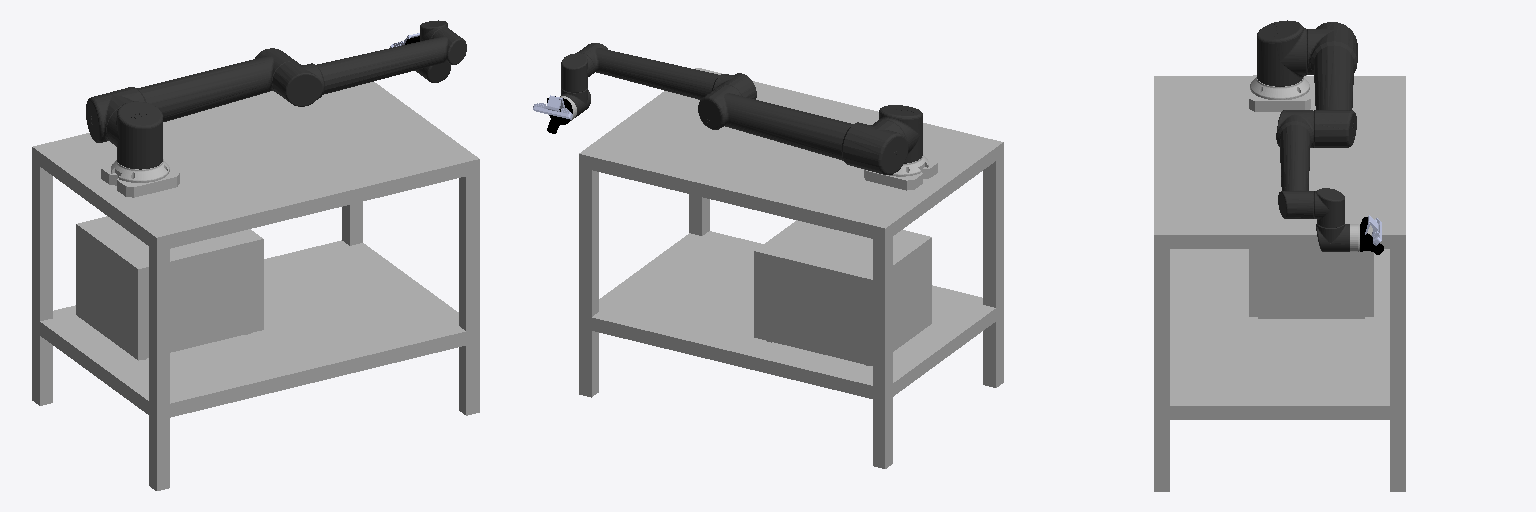
The robot description file, URDF, robot "ur10_description_v3":
<?xml version="1.0" encoding="utf-8" ?>
<!-- This URDF was automatically created by SolidWorks to URDF Exporter! Originally created by [author] ([email redacted]) 
     Commit Version: 1.6.0-4-g7f85cfe  Build Version: 1.6.7995.38578
     For more information, please see http://wiki.ros.org/sw_urdf_exporter -->
<robot name="ur10_description_v3">
    <link name="table_link">
        <inertial>
            <origin xyz="0.503679778923471 0.436750246454337 0.533162239913515" rpy="0 0 0" />
            <mass value="164.427518164029" />
            <inertia ixx="17.5438109681455" ixy="1.00173029919582" ixz="-0.84554880731535" iyy="27.9962527469498" iyz="0.32261270489944" izz="25.3196927520228" />
        </inertial>
        <visual>
            <origin xyz="0 0 0" rpy="0 0 0" />
            <geometry>
                <mesh filename="package://ur10_description_v3/meshes/table_link.STL" />
            </geometry>
            <material name="">
                <color rgba="0.752941176470588 0.752941176470588 0.752941176470588 1" />
            </material>
        </visual>
        <collision>
            <origin xyz="0 0 0" rpy="0 0 0" />
            <geometry>
                <mesh filename="package://ur10_description_v3/meshes/table_link.STL" />
            </geometry>
        </collision>
    </link>
    <link name="adapter_link">
        <inertial>
            <origin xyz="0.00148762870939384 -5.55111512312578E-17 0.0184969952138566" rpy="0 0 0" />
            <mass value="1.3940393775037" />
            <inertia ixx="0.00480218257555222" ixy="-3.32761202584861E-19" ixz="-6.23136456619299E-09" iyy="0.00460995913579551" iyz="-9.9318015210222E-20" izz="0.00909416459764461" />
        </inertial>
        <visual>
            <origin xyz="0 0 0" rpy="0 0 0" />
            <geometry>
                <mesh filename="package://ur10_description_v3/meshes/adapter_link.STL" />
            </geometry>
            <material name="">
                <color rgba="0.752941176470588 0.752941176470588 0.752941176470588 1" />
            </material>
        </visual>
        <collision>
            <origin xyz="0 0 0" rpy="0 0 0" />
            <geometry>
                <mesh filename="package://ur10_description_v3/meshes/adapter_link.STL" />
            </geometry>
        </collision>
    </link>
    <joint name="adapter_joint" type="fixed">
        <origin xyz="0.17 0.4 0.9" rpy="0 0 0" />
        <parent link="table_link" />
        <child link="adapter_link" />
        <axis xyz="0 0 0" />
    </joint>
    <link name="base_link">
        <inertial>
            <origin xyz="0.0011845 -2.7253E-08 0.017325" rpy="0 0 0" />
            <mass value="0.86268" />
            <inertia ixx="0.0017501" ixy="8.3495E-09" ixz="9.0593E-06" iyy="0.0016637" iyz="-4.5806E-10" izz="0.0032119" />
        </inertial>
        <visual>
            <origin xyz="0 0 0" rpy="0 0 0" />
            <geometry>
                <mesh filename="package://ur10_description_v3/meshes/base_link.STL" />
            </geometry>
            <material name="">
                <color rgba="0.75294 0.75294 0.75294 1" />
            </material>
        </visual>
        <collision>
            <origin xyz="0 0 0" rpy="0 0 0" />
            <geometry>
                <mesh filename="package://ur10_description_v3/meshes/base_link.STL" />
            </geometry>
        </collision>
    </link>
    <joint name="base_joint" type="fixed">
        <origin xyz="0 0 0.037" rpy="0 0 0" />
        <parent link="adapter_link" />
        <child link="base_link" />
        <axis xyz="0 0 0" />
    </joint>
    <link name="shoulder_link">
        <inertial>
            <origin xyz="2.679E-07 0.010024 0.0831" rpy="0 0 0" />
            <mass value="7.778" />
            <inertia ixx="0.012906" ixy="1.6076E-08" ixz="-3.7079E-08" iyy="0.012039" iyz="-0.00053627" izz="0.010755" />
        </inertial>
        <visual>
            <origin xyz="0 0 0" rpy="0 0 0" />
            <geometry>
                <mesh filename="package://ur10_description_v3/meshes/shoulder_link.STL" />
            </geometry>
            <material name="">
                <color rgba="0.25098 0.25098 0.25098 1" />
            </material>
        </visual>
        <collision>
            <origin xyz="0 0 0" rpy="0 0 0" />
            <geometry>
                <mesh filename="package://ur10_description_v3/meshes/shoulder_link.STL" />
            </geometry>
        </collision>
    </link>
    <joint name="shoulder_pan_joint" type="revolute">
        <origin xyz="0 0 0.038" rpy="0 0 0" />
        <parent link="base_link" />
        <child link="shoulder_link" />
        <axis xyz="0 0 1" />
        <limit lower="-6.28" upper="6.28" effort="330" velocity="120" />
    </joint>
    <link name="upper_arm_link">
        <inertial>
            <origin xyz="-0.25443 -2.027E-07 0.082537" rpy="0 0 0" />
            <mass value="12.93" />
            <inertia ixx="0.024456" ixy="3.1971E-08" ixz="0.0078193" iyy="0.52575" iyz="8.3512E-08" izz="0.52417" />
        </inertial>
        <visual>
            <origin xyz="0 0 0" rpy="0 0 0" />
            <geometry>
                <mesh filename="package://ur10_description_v3/meshes/upper_arm_link.STL" />
            </geometry>
            <material name="">
                <color rgba="0.25098 0.25098 0.25098 1" />
            </material>
        </visual>
        <collision>
            <origin xyz="0 0 0" rpy="0 0 0" />
            <geometry>
                <mesh filename="package://ur10_description_v3/meshes/upper_arm_link.STL" />
            </geometry>
        </collision>
    </link>
    <joint name="shoulder_lift_joint" type="revolute">
        <origin xyz="0 0.0859989999999999 0.0882571802206784" rpy="1.5707963267949 0.0240929901040578 3.14159265358979" />
        <parent link="shoulder_link" />
        <child link="upper_arm_link" />
        <axis xyz="0 0 -1" />
        <limit lower="-6.28" upper="6.28" effort="330" velocity="120" />
    </joint>
    <link name="forearm_link">
        <inertial>
            <origin xyz="-0.24807 1.9251E-09 -0.034936" rpy="0 0 0" />
            <mass value="3.87" />
            <inertia ixx="0.0067905" ixy="5.4328E-08" ixz="-0.00025402" iyy="0.20899" iyz="7.4389E-09" izz="0.20875" />
        </inertial>
        <visual>
            <origin xyz="0 0 0" rpy="0 0 0" />
            <geometry>
                <mesh filename="package://ur10_description_v3/meshes/forearm_link.STL" />
            </geometry>
            <material name="">
                <color rgba="0.25098 0.25098 0.25098 1" />
            </material>
        </visual>
        <collision>
            <origin xyz="0 0 0" rpy="0 0 0" />
            <geometry>
                <mesh filename="package://ur10_description_v3/meshes/forearm_link.STL" />
            </geometry>
        </collision>
    </link>
    <joint name="elbow_joint" type="revolute">
        <origin xyz="-0.612 0 0" rpy="0 0 0.0242666741712824" />
        <parent link="upper_arm_link" />
        <child link="forearm_link" />
        <axis xyz="0 0 1" />
        <limit lower="-3.14" upper="3.14" effort="150" velocity="180" />
    </joint>
    <link name="wrist_1_link">
        <inertial>
            <origin xyz="8.3814E-09 -0.010045 0.046994" rpy="0 0 0" />
            <mass value="1.96" />
            <inertia ixx="0.0010747" ixy="-1.3405E-12" ixz="4.6386E-10" iyy="0.00088168" iyz="7.862E-05" izz="0.00098347" />
        </inertial>
        <visual>
            <origin xyz="0 0 0" rpy="0 0 0" />
            <geometry>
                <mesh filename="package://ur10_description_v3/meshes/wrist_1_link.STL" />
            </geometry>
            <material name="">
                <color rgba="0.25098 0.25098 0.25098 1" />
            </material>
        </visual>
        <collision>
            <origin xyz="0 0 0" rpy="0 0 0" />
            <geometry>
                <mesh filename="package://ur10_description_v3/meshes/wrist_1_link.STL" />
            </geometry>
        </collision>
    </link>
    <joint name="wrist_1_joint" type="revolute">
        <origin xyz="-0.5716 0 0.0220010000000001" rpy="0 0 -0.000173684067224549" />
        <parent link="forearm_link" />
        <child link="wrist_1_link" />
        <axis xyz="0 0 -1" />
        <limit lower="-6.28" upper="6.28" effort="56" velocity="180" />
    </joint>
    <link name="wrist_2_link">
        <inertial>
            <origin xyz="-8.3814E-09 0.010045 0.046994" rpy="0 0 0" />
            <mass value="1.96" />
            <inertia ixx="0.0010747" ixy="-1.3405E-12" ixz="-4.6386E-10" iyy="0.00088168" iyz="-7.862E-05" izz="0.00098347" />
        </inertial>
        <visual>
            <origin xyz="0 0 0" rpy="0 0 0" />
            <geometry>
                <mesh filename="package://ur10_description_v3/meshes/wrist_2_link.STL" />
            </geometry>
            <material name="">
                <color rgba="0.25098 0.25098 0.25098 1" />
            </material>
        </visual>
        <collision>
            <origin xyz="0 0 0" rpy="0 0 0" />
            <geometry>
                <mesh filename="package://ur10_description_v3/meshes/wrist_2_link.STL" />
            </geometry>
        </collision>
    </link>
    <joint name="wrist_2_joint" type="revolute">
        <origin xyz="0 -0.0617000000000001 0.054" rpy="1.5707963267949 0 0" />
        <parent link="wrist_1_link" />
        <child link="wrist_2_link" />
        <axis xyz="0 0 -1" />
        <limit lower="-6.28" upper="6.28" effort="56" velocity="180" />
    </joint>
    <link name="wrist_3_link">
        <inertial>
            <origin xyz="2.2204E-16 -1.1102E-16 0.015005" rpy="0 0 0" />
            <mass value="0.202" />
            <inertia ixx="0.00010845" ixy="-6.3527E-22" ixz="8.5217E-21" iyy="0.00010845" iyz="2.1272E-20" izz="0.0001885" />
        </inertial>
        <visual>
            <origin xyz="0 0 0" rpy="0 0 0" />
            <geometry>
                <mesh filename="package://ur10_description_v3/meshes/wrist_3_link.STL" />
            </geometry>
            <material name="">
                <color rgba="0.75294 0.75294 0.75294 1" />
            </material>
        </visual>
        <collision>
            <origin xyz="0 0 0" rpy="0 0 0" />
            <geometry>
                <mesh filename="package://ur10_description_v3/meshes/wrist_3_link.STL" />
            </geometry>
        </collision>
    </link>
    <joint name="wrist_3_joint" type="revolute">
        <origin xyz="0 0.0617 0.054" rpy="-1.5707963267949 0.0141025375343068 0" />
        <parent link="wrist_2_link" />
        <child link="wrist_3_link" />
        <axis xyz="0 0 1" />
        <limit lower="-6.28" upper="6.28" effort="56" velocity="180" />
    </joint>
    <link name="test_finger_link">
        <inertial>
            <origin xyz="-9.51811385263568E-09 -0.00040829549117638 -0.063076624107084" rpy="0 0 0" />
            <mass value="0.159494248297753" />
            <inertia ixx="0.000196142213229152" ixy="-3.17147593634008E-12" ixz="-8.16590451397829E-11" iyy="0.000202558472496363" iyz="3.31143649078889E-05" izz="0.000103928487892553" />
        </inertial>
        <visual>
            <origin xyz="0 0 0" rpy="0 0 0" />
            <geometry>
                <mesh filename="package://ur10_description_v3/meshes/test_finger_link.STL" />
            </geometry>
            <material name="">
                <color rgba="0 0 0 1" />
            </material>
        </visual>
        <collision>
            <origin xyz="0 0 0" rpy="0 0 0" />
            <geometry>
                <mesh filename="package://ur10_description_v3/meshes/test_finger_link.STL" />
            </geometry>
        </collision>
    </link>
    <joint name="tool_test_finger" type="fixed">
        <origin xyz="0 -0.0486072989450782 0.0984743807368732" rpy="0.785398163397435 0 0" />
        <parent link="wrist_3_link" />
        <child link="test_finger_link" />
        <axis xyz="0 0 0" />
    </joint>
    <link name="camera_link">
        <inertial>
            <origin xyz="-1.61524861117535E-05 -0.00212700504491092 -0.0193765848255853" rpy="0 0 0" />
            <mass value="0.0840231018507497" />
            <inertia ixx="8.83086020963579E-06" ixy="4.69402693871799E-10" ixz="-1.85931238714756E-08" iyy="0.00010709697994186" iyz="1.0714392504519E-06" izz="0.000107821135197006" />
        </inertial>
        <visual>
            <origin xyz="0 0 0" rpy="0 0 0" />
            <geometry>
                <mesh filename="package://ur10_description_v3/meshes/camera_link.STL" />
            </geometry>
            <material name="">
                <color rgba="0.792156862745098 0.819607843137255 0.933333333333333 1" />
            </material>
        </visual>
        <collision>
            <origin xyz="0 0 0" rpy="0 0 0" />
            <geometry>
                <mesh filename="package://ur10_description_v3/meshes/camera_link.STL" />
            </geometry>
        </collision>
    </link>
    <joint name="tool_camera" type="fixed">
        <origin xyz="0 0.0158483827537649 0.0919267022436815" rpy="0.856180071631976 0 0" />
        <parent link="wrist_3_link" />
        <child link="camera_link" />
        <axis xyz="0 0 0" />
    </joint>
    <transmission name="trans_shoulder_pan_joint">
        <type>transmission_interface/SimpleTransmission</type>
        <joint name="shoulder_pan_joint">
            <hardwareInterface>hardware_interface/PositionJointInterface</hardwareInterface>
        </joint>
        <actuator name="shoulder_pan_joint_motor">
            <hardwareInterface>hardware_interface/PositionJointInterface</hardwareInterface>
            <mechanicalReduction>1</mechanicalReduction>
        </actuator>
    </transmission>
    <transmission name="trans_shoulder_lift_joint">
        <type>transmission_interface/SimpleTransmission</type>
        <joint name="shoulder_lift_joint">
            <hardwareInterface>hardware_interface/PositionJointInterface</hardwareInterface>
        </joint>
        <actuator name="shoulder_lift_joint_motor">
            <hardwareInterface>hardware_interface/PositionJointInterface</hardwareInterface>
            <mechanicalReduction>1</mechanicalReduction>
        </actuator>
    </transmission>
    <transmission name="trans_elbow_joint">
        <type>transmission_interface/SimpleTransmission</type>
        <joint name="elbow_joint">
            <hardwareInterface>hardware_interface/PositionJointInterface</hardwareInterface>
        </joint>
        <actuator name="elbow_joint_motor">
            <hardwareInterface>hardware_interface/PositionJointInterface</hardwareInterface>
            <mechanicalReduction>1</mechanicalReduction>
        </actuator>
    </transmission>
    <transmission name="trans_wrist_1_joint">
        <type>transmission_interface/SimpleTransmission</type>
        <joint name="wrist_1_joint">
            <hardwareInterface>hardware_interface/PositionJointInterface</hardwareInterface>
        </joint>
        <actuator name="wrist_1_joint_motor">
            <hardwareInterface>hardware_interface/PositionJointInterface</hardwareInterface>
            <mechanicalReduction>1</mechanicalReduction>
        </actuator>
    </transmission>
    <transmission name="trans_wrist_2_joint">
        <type>transmission_interface/SimpleTransmission</type>
        <joint name="wrist_2_joint">
            <hardwareInterface>hardware_interface/PositionJointInterface</hardwareInterface>
        </joint>
        <actuator name="wrist_2_joint_motor">
            <hardwareInterface>hardware_interface/PositionJointInterface</hardwareInterface>
            <mechanicalReduction>1</mechanicalReduction>
        </actuator>
    </transmission>
    <transmission name="trans_wrist_3_joint">
        <type>transmission_interface/SimpleTransmission</type>
        <joint name="wrist_3_joint">
            <hardwareInterface>hardware_interface/PositionJointInterface</hardwareInterface>
        </joint>
        <actuator name="wrist_3_joint_motor">
            <hardwareInterface>hardware_interface/PositionJointInterface</hardwareInterface>
            <mechanicalReduction>1</mechanicalReduction>
        </actuator>
    </transmission>
    <gazebo>
        <plugin name="gazebo_ros_control">
            <robotNamespace>/</robotNamespace>
        </plugin>
    </gazebo>
</robot>

--- Facts derived from the render (not from the file) ---
3 views of the same robot in one strip: view 1: azimuth 30°, elevation 25°; view 2: azimuth 150°, elevation 25°; view 3: azimuth 270°, elevation 25° (orthographic).
Model ur10_description_v3 with 11 links and 10 joints (6 revolute, 4 fixed), rooted at table_link, posed all joints at 0.
Visible links, largest first — view 1: table_link, upper_arm_link, forearm_link, shoulder_link, adapter_link, base_link; view 2: table_link, upper_arm_link, forearm_link, shoulder_link, wrist_1_link, adapter_link; view 3: table_link, upper_arm_link, forearm_link, shoulder_link, wrist_1_link, adapter_link, base_link, wrist_2_link.
Link boxes in pixels (x1,y1,x2,y2): table_link: [32, 82, 479, 490]; upper_arm_link: [86, 48, 297, 142]; forearm_link: [272, 28, 466, 106]; shoulder_link: [107, 101, 162, 169]; adapter_link: [101, 162, 179, 197]; base_link: [111, 159, 169, 182]; table_link: [579, 68, 1003, 468]; upper_arm_link: [698, 84, 908, 174]; forearm_link: [577, 43, 756, 99]; shoulder_link: [875, 105, 922, 163]; wrist_1_link: [561, 53, 593, 92]; adapter_link: [864, 156, 937, 190]; table_link: [1154, 76, 1405, 491]; upper_arm_link: [1307, 22, 1357, 147]; forearm_link: [1276, 110, 1313, 218]; shoulder_link: [1257, 20, 1306, 86]; wrist_1_link: [1314, 188, 1344, 227]; adapter_link: [1249, 75, 1310, 111]; base_link: [1250, 77, 1309, 99]; wrist_2_link: [1316, 224, 1349, 251].
Size in the robot's own frame: 1.43 by 0.8 by 1.15 metres.
11 mesh visuals loaded from 11 distinct referenced files (11 binary STL).